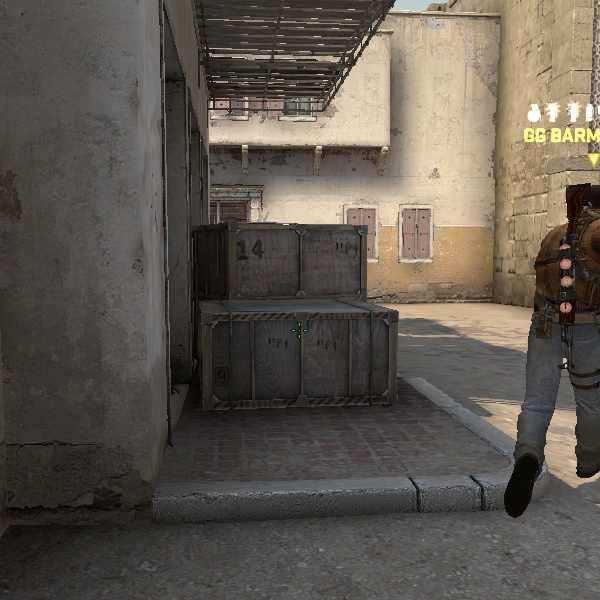t_body: (501, 165, 596, 519)
t_head: (560, 175, 599, 237)
